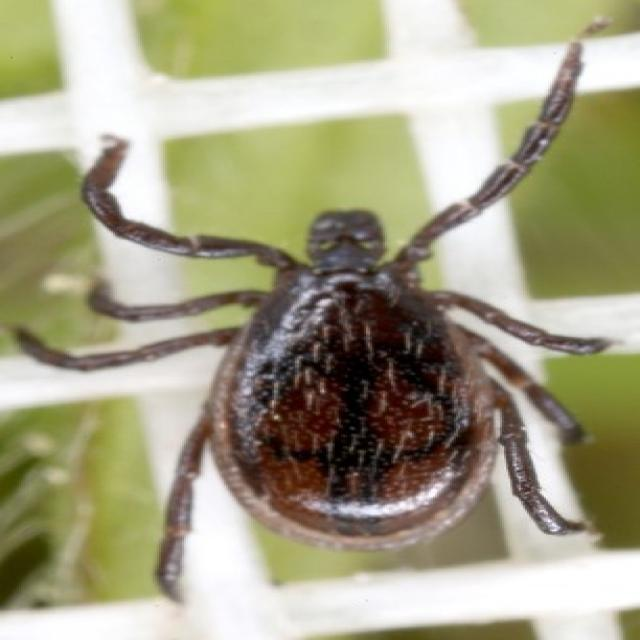Ixodes Ricinus-M: (21, 42, 615, 601)
